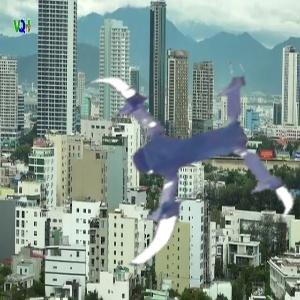drone: (63, 48, 283, 268)
